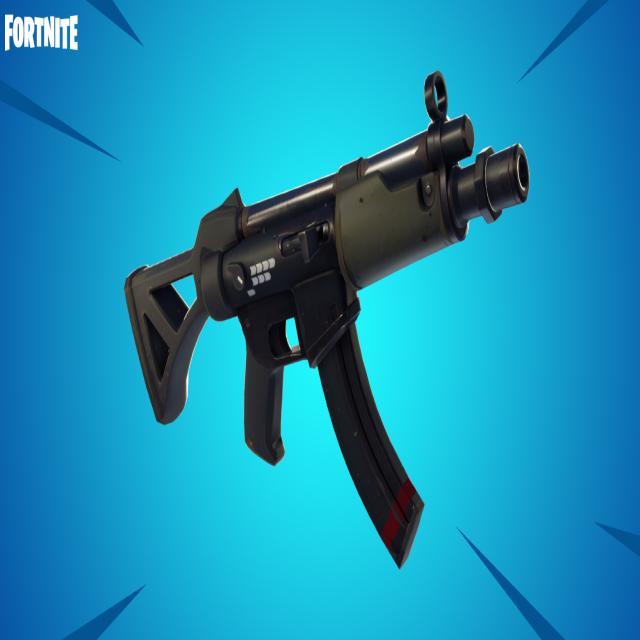Weapon: (125, 71, 530, 567)
